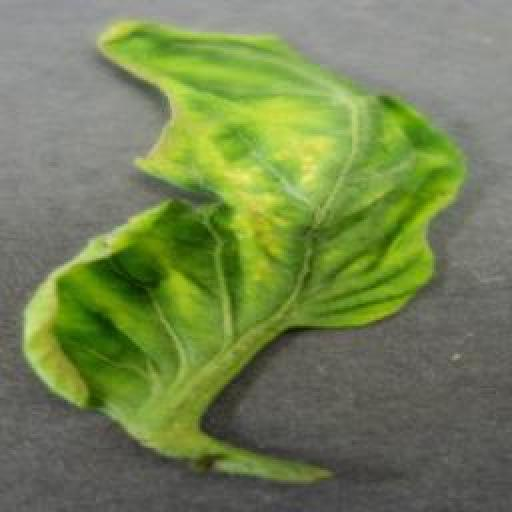Yellow Leaf Curl Virus: (21, 16, 463, 433)
